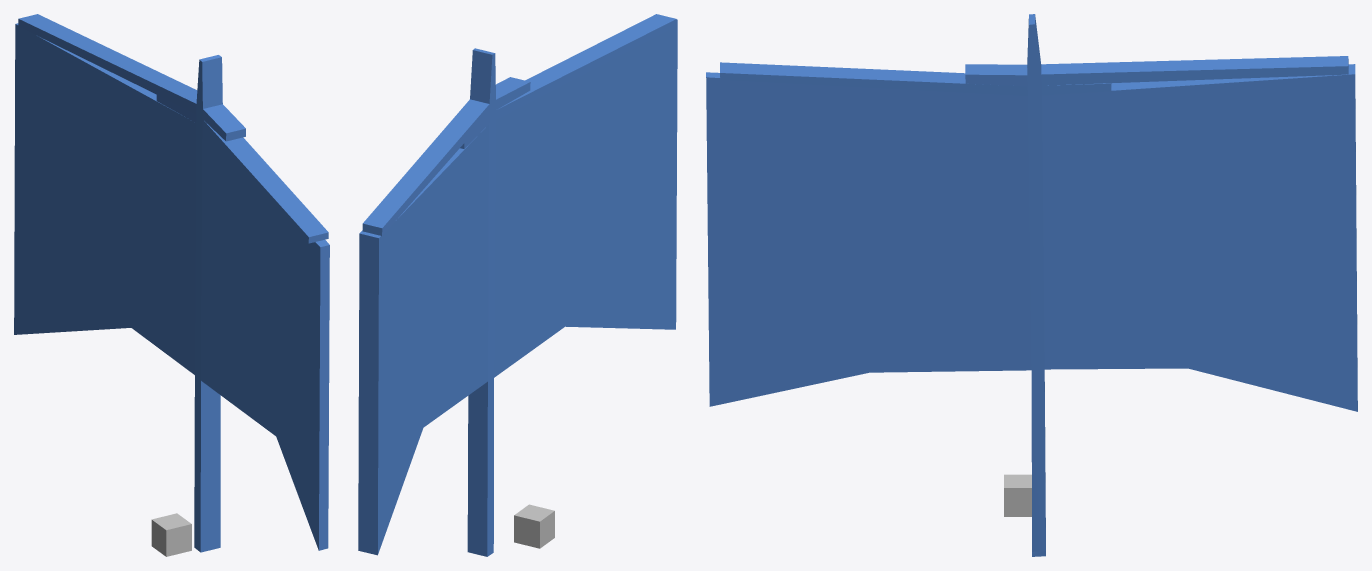
The model's file is Maszt.obj.
3 renders of one model, left to right at view 1: azimuth 30°, elevation 25°; view 2: azimuth 150°, elevation 25°; view 3: azimuth 270°, elevation 25°, orthographic. The views are drawn at different scales.
Parts seen in each view (by area): view 1: Trirema, Cube; view 2: Trirema, Cube; view 3: Trirema, Cube.
Part boxes in pixels (x1,y1,x2,y2): Trirema: (14, 14, 329, 552); Cube: (151, 513, 191, 556); Trirema: (358, 14, 677, 556); Cube: (514, 504, 554, 548); Trirema: (706, 14, 1357, 556); Cube: (1004, 474, 1031, 516).
Bounding box in the file's own units: 5.27 × 36.84 × 40.86.
